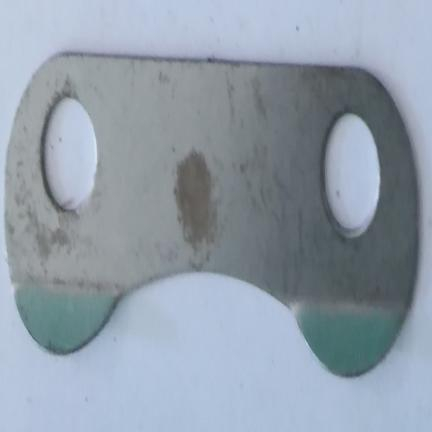besi_tidak_karat: (3, 54, 420, 376)
